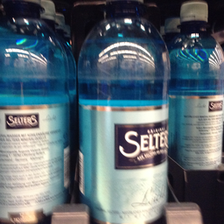water: (77, 1, 173, 224), (1, 1, 72, 224), (170, 1, 224, 170)
